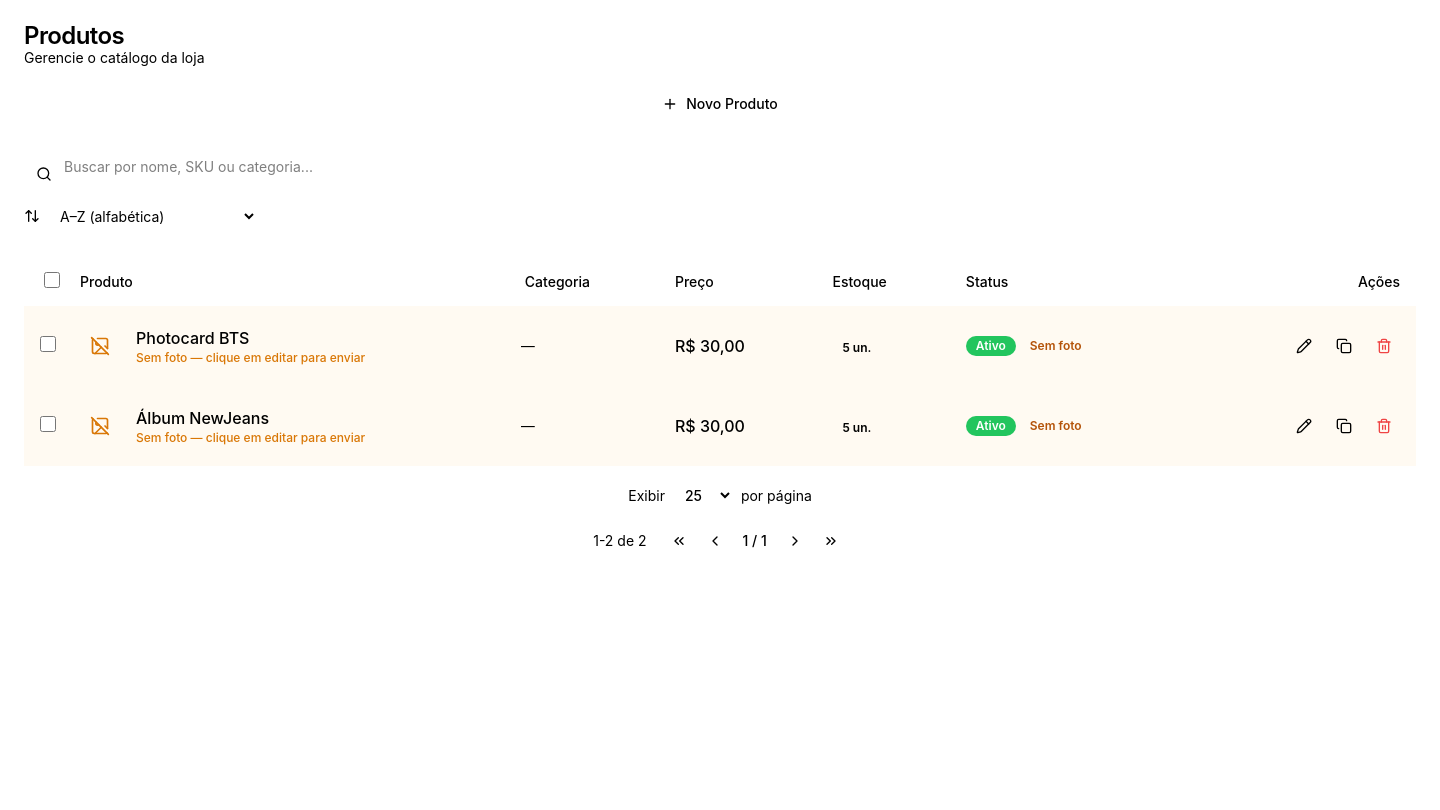
Test: ProductsTab — categoria em massa › keeps the bulk bar out of the way until something is ticked
Expected: the text "Photocard BTS" is shown, 136,328 -> 249,348
Click the checkbox named "Selecionar Photocard BTS" at (48, 344), box 40,336 -> 56,352
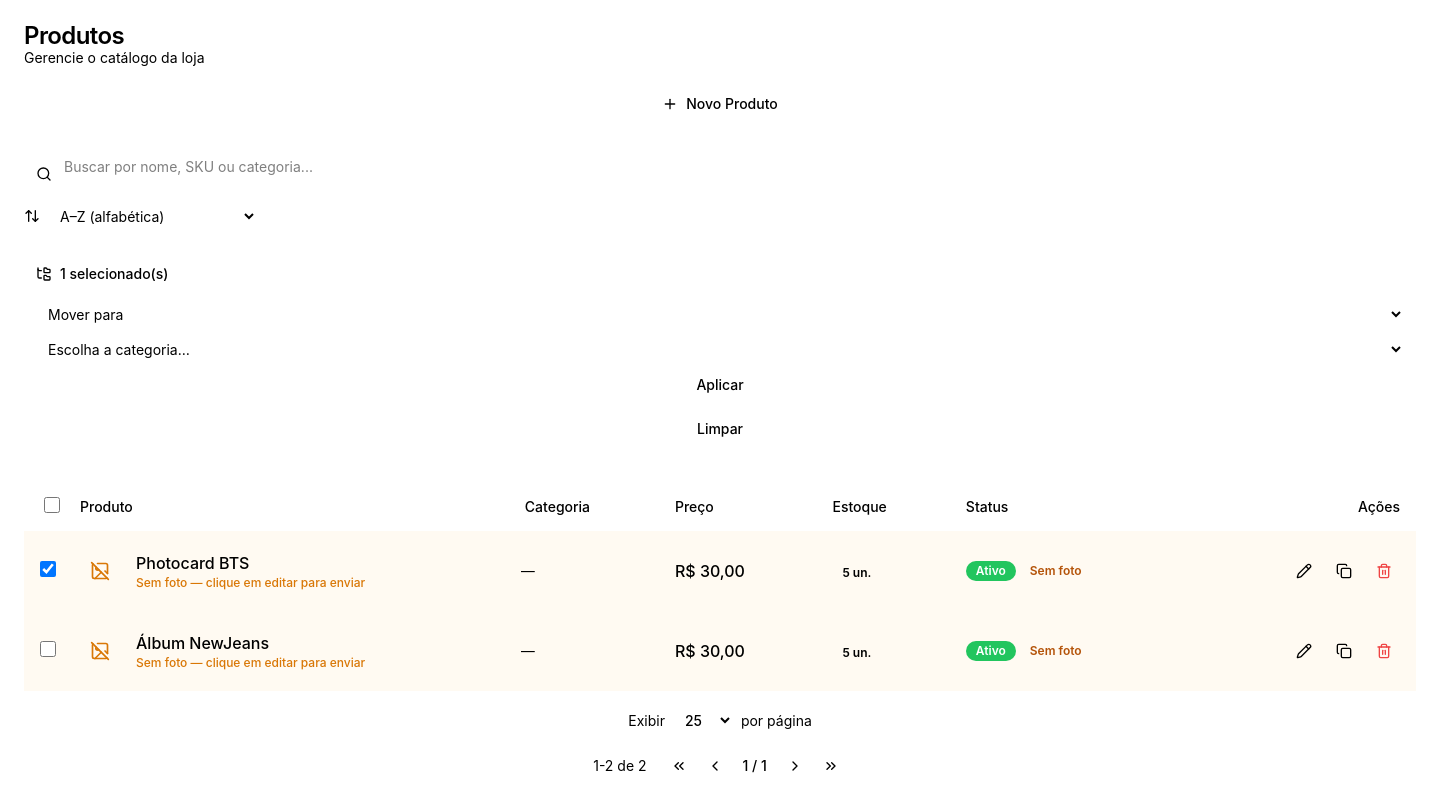
Expected: the text "1 selecionado(s)" is shown, 36,265 -> 168,282
